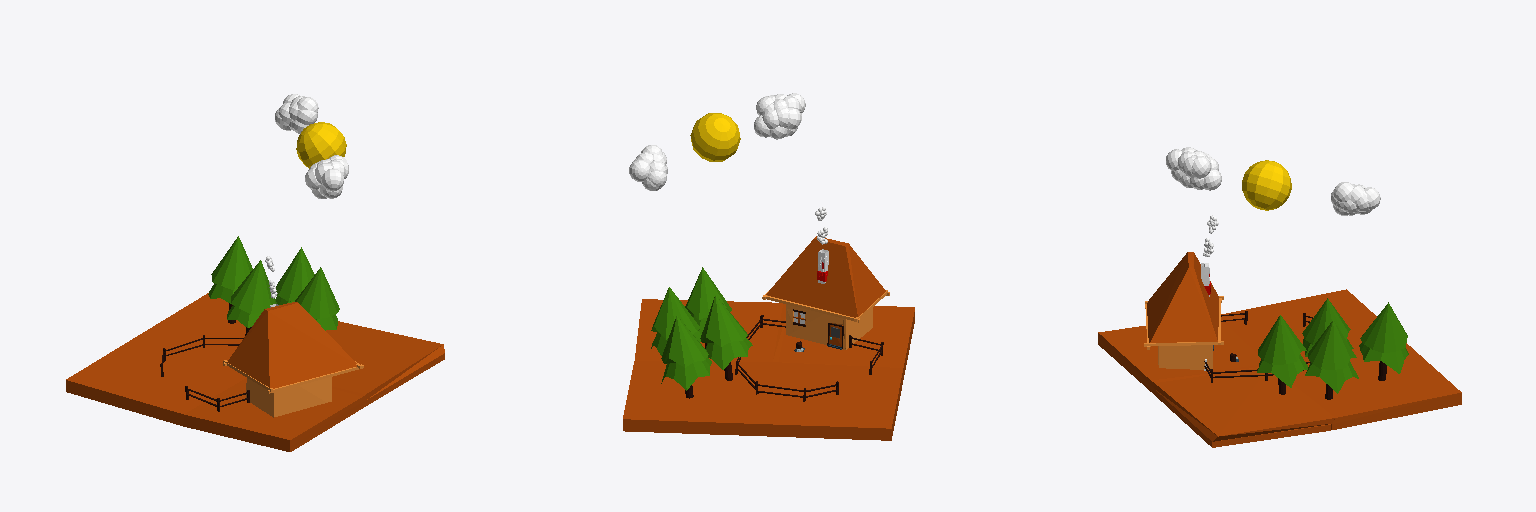
3 views of the same model, side by side, from view 1: azimuth 30°, elevation 25°; view 2: azimuth 150°, elevation 25°; view 3: azimuth 270°, elevation 25° (orthographic).
Parts seen in each view (by area): view 1: group[number redacted], group[number redacted], group[number redacted], group[number redacted], group[number redacted], group[number redacted], group[number redacted], group[number redacted]; view 2: group[number redacted], group[number redacted], group[number redacted], group[number redacted], group[number redacted], group[number redacted], group[number redacted], group[number redacted], group[number redacted], group[number redacted]; view 3: group[number redacted], group[number redacted], group[number redacted], group[number redacted], group[number redacted], group[number redacted], group[number redacted], group[number redacted], group[number redacted], group[number redacted], group[number redacted].
Boxes of the visible parts, x1,y1,x2,y2 form: group[number redacted]: [66, 293, 444, 451]; group[number redacted]: [227, 302, 356, 388]; group[number redacted]: [246, 377, 331, 417]; group[number redacted]: [296, 122, 346, 168]; group[number redacted]: [231, 260, 276, 313]; group[number redacted]: [295, 267, 339, 319]; group[number redacted]: [211, 236, 252, 290]; group[number redacted]: [276, 247, 314, 301]; group[number redacted]: [623, 299, 914, 440]; group[number redacted]: [766, 236, 885, 317]; group[number redacted]: [690, 113, 740, 161]; group[number redacted]: [786, 304, 872, 349]; group[number redacted]: [661, 316, 708, 367]; group[number redacted]: [700, 295, 747, 346]; group[number redacted]: [651, 287, 699, 339]; group[number redacted]: [685, 267, 731, 319]; group[number redacted]: [661, 357, 711, 390]; group[number redacted]: [706, 338, 752, 369]; group[number redacted]: [1098, 289, 1461, 447]; group[number redacted]: [1147, 252, 1218, 342]; group[number redacted]: [1242, 160, 1291, 210]; group[number redacted]: [1258, 315, 1306, 364]; group[number redacted]: [1360, 302, 1407, 352]; group[number redacted]: [1308, 320, 1356, 369]; group[number redacted]: [1158, 345, 1212, 369]; group[number redacted]: [1302, 298, 1350, 344]; group[number redacted]: [1305, 361, 1358, 393]; group[number redacted]: [1257, 354, 1307, 387]; group[number redacted]: [1359, 342, 1408, 373].
Bounding box in the file's own units: 8.31 × 6.18 × 8.34.